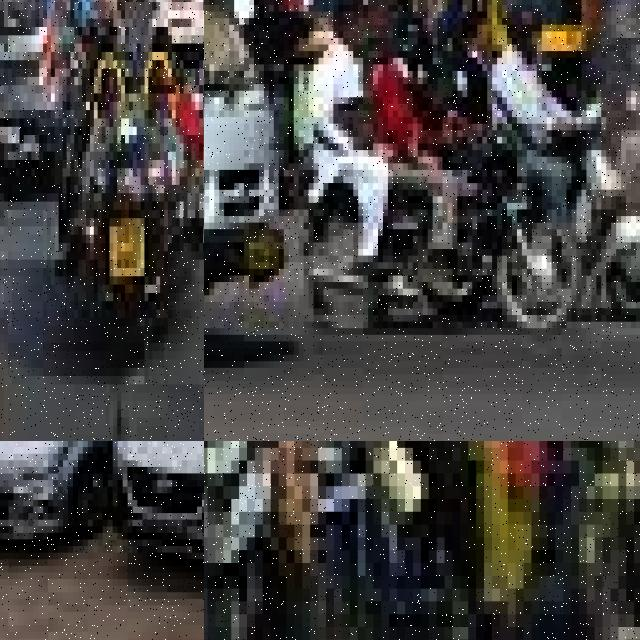bike: (304, 137, 586, 361), (278, 441, 492, 640), (204, 441, 310, 640)
car: (0, 441, 102, 612), (115, 441, 204, 615)
